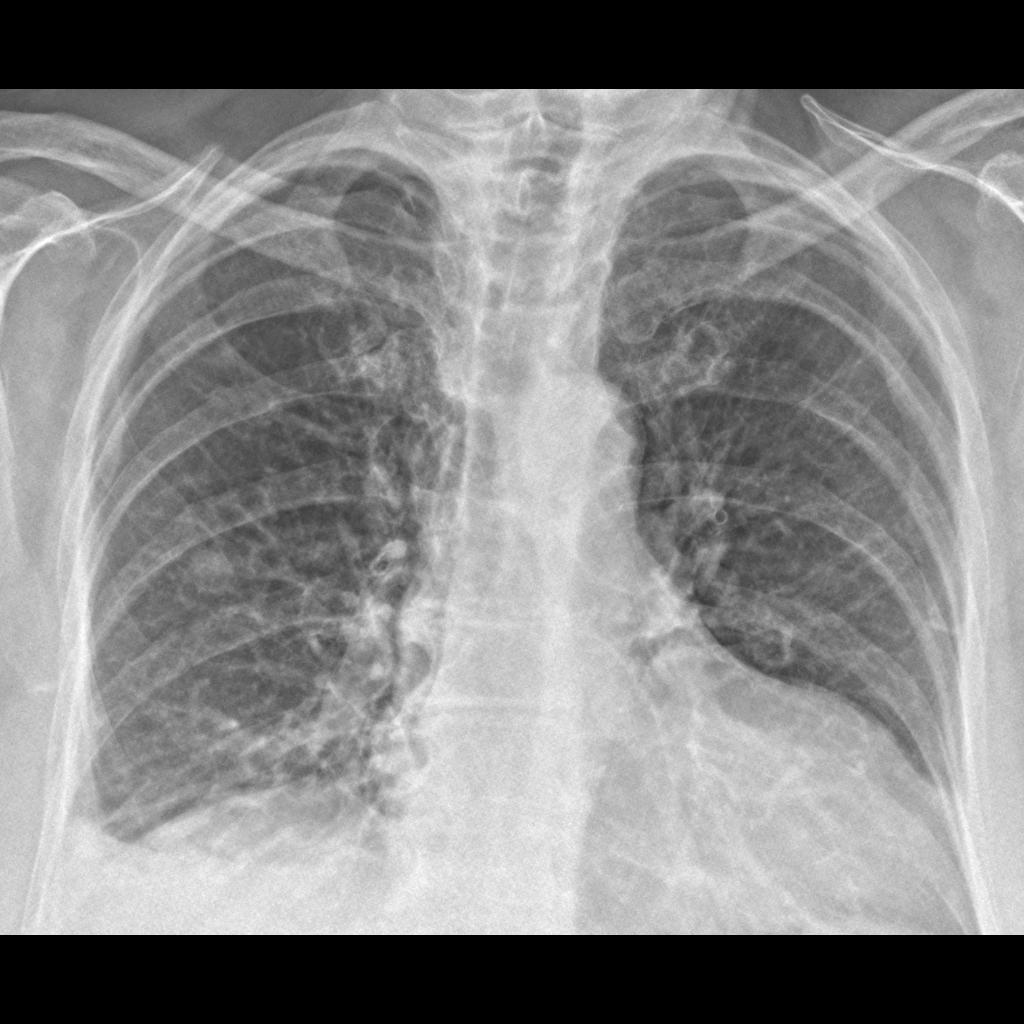Nodule: (184, 536, 252, 620)
